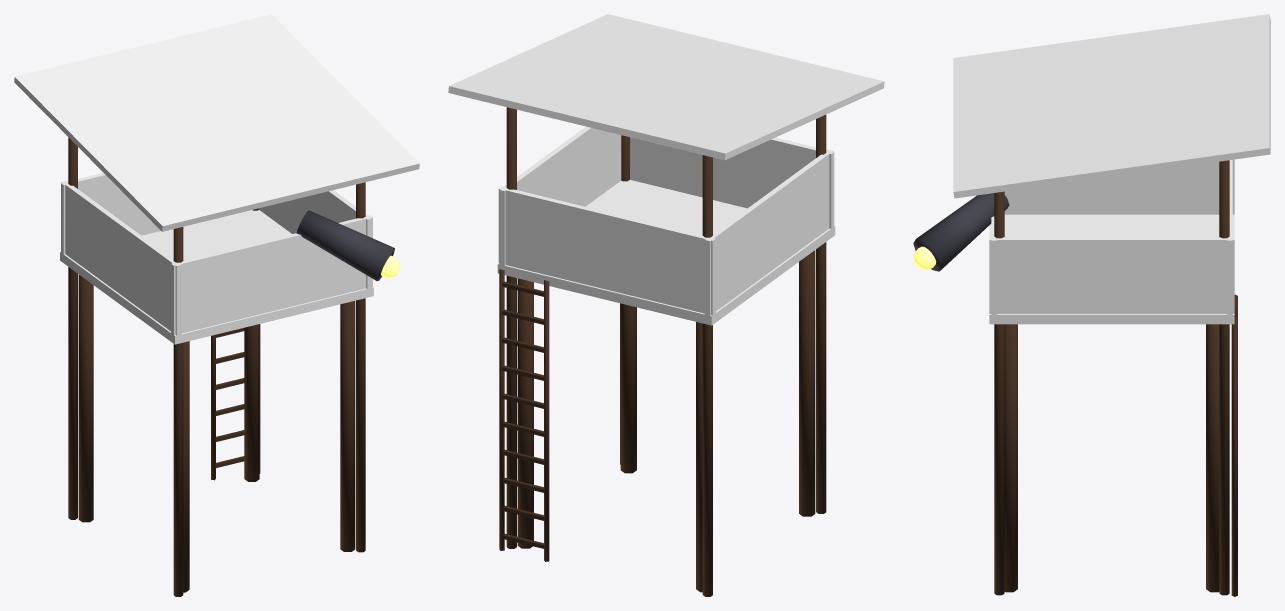
The model's file is posterunek_swietlny.glb.
The picture shows the model from 3 angles, left to right: view 1: azimuth 30°, elevation 25°; view 2: azimuth 150°, elevation 25°; view 3: azimuth 270°, elevation 25°; orthographic projection. The views are drawn at different scales.
Visible parts, largest first — view 1: posterunek_10, posterunek_8, posterunek_9, posterunek_5, posterunek_3, posterunek_2, posterunek_11, posterunek_15, posterunek_12, posterunek_13, posterunek_4, posterunek_7 (+3 smaller); view 2: posterunek_10, posterunek_6, posterunek_9, posterunek_5, posterunek_8, posterunek_7, posterunek_1, posterunek_12, posterunek_4, posterunek_11, posterunek_14, posterunek_3 (+4 smaller); view 3: posterunek_10, posterunek_7, posterunek_9, posterunek_5, posterunek_14, posterunek_4, posterunek_3, posterunek_13, posterunek_15, posterunek_29, posterunek_6, posterunek_8.
Boxes of the visible parts, x1=… form: posterunek_10: x1=14, y1=14, x2=419, y2=231; posterunek_8: x1=171, y1=215, x2=372, y2=335; posterunek_9: x1=61, y1=181, x2=181, y2=335; posterunek_5: x1=60, y1=210, x2=373, y2=344; posterunek_3: x1=340, y1=301, x2=355, y2=551; posterunek_2: x1=78, y1=274, x2=93, y2=522; posterunek_11: x1=173, y1=227, x2=183, y2=596; posterunek_15: x1=296, y1=210, x2=394, y2=281; posterunek_12: x1=68, y1=137, x2=77, y2=519; posterunek_13: x1=356, y1=182, x2=365, y2=552; posterunek_4: x1=244, y1=324, x2=259, y2=481; posterunek_7: x1=259, y1=190, x2=372, y2=288; posterunek_10: x1=448, y1=14, x2=884, y2=160; posterunek_6: x1=498, y1=186, x2=715, y2=315; posterunek_9: x1=704, y1=149, x2=833, y2=315; posterunek_5: x1=497, y1=180, x2=835, y2=325; posterunek_8: x1=630, y1=137, x2=834, y2=228; posterunek_7: x1=499, y1=126, x2=621, y2=265; posterunek_1: x1=799, y1=250, x2=815, y2=516; posterunek_12: x1=702, y1=155, x2=712, y2=596; posterunek_4: x1=517, y1=278, x2=533, y2=548; posterunek_11: x1=816, y1=115, x2=826, y2=513; posterunek_14: x1=506, y1=107, x2=516, y2=548; posterunek_3: x1=620, y1=303, x2=636, y2=473; posterunek_10: x1=953, y1=14, x2=1270, y2=198; posterunek_7: x1=989, y1=237, x2=1234, y2=313; posterunek_9: x1=1004, y1=159, x2=1234, y2=214; posterunek_5: x1=989, y1=214, x2=1234, y2=324; posterunek_14: x1=1219, y1=160, x2=1229, y2=595; posterunek_4: x1=1206, y1=324, x2=1219, y2=592; posterunek_3: x1=1004, y1=324, x2=1017, y2=592; posterunek_13: x1=994, y1=191, x2=1004, y2=595; posterunek_15: x1=913, y1=193, x2=1009, y2=271; posterunek_29: x1=1231, y1=316, x2=1237, y2=596; posterunek_6: x1=1226, y1=160, x2=1232, y2=314; posterunek_8: x1=991, y1=216, x2=997, y2=314.
Size of the model in its own units: 3.1 by 5.01 by 3.49.
